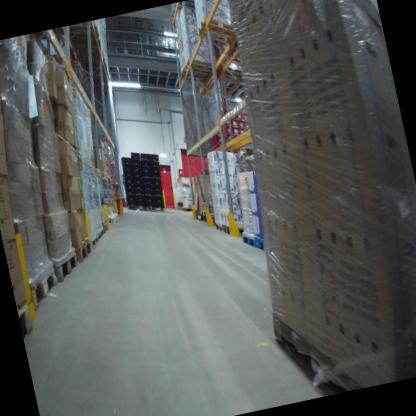pallet: (269, 285, 414, 395), (191, 7, 244, 59), (22, 256, 65, 311), (47, 244, 83, 288), (183, 50, 223, 81), (172, 58, 216, 86), (16, 295, 41, 336), (72, 233, 96, 265), (65, 21, 99, 39), (123, 199, 148, 217), (251, 232, 269, 252), (222, 220, 243, 234), (89, 228, 103, 249), (239, 230, 255, 248), (200, 204, 219, 219), (145, 201, 164, 216), (101, 216, 113, 237), (213, 217, 224, 234), (93, 166, 104, 182), (95, 225, 107, 239), (106, 213, 119, 225), (101, 167, 109, 181)
